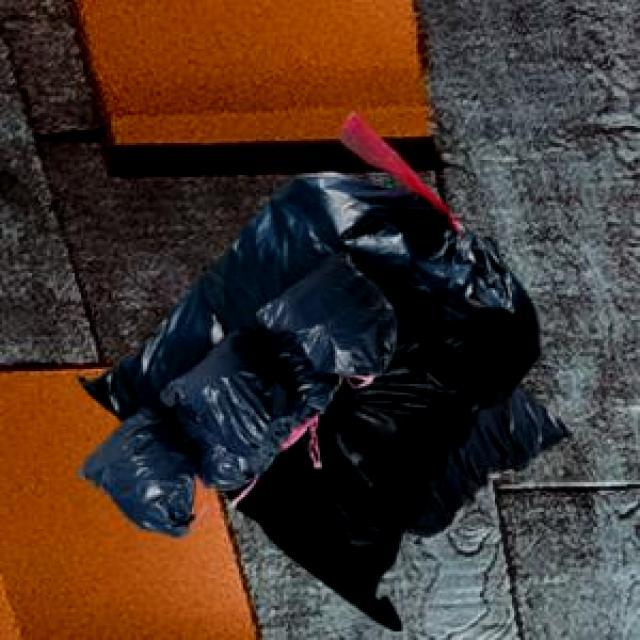Trashbag: (263, 260, 402, 381), (81, 419, 196, 536), (163, 337, 282, 448)
